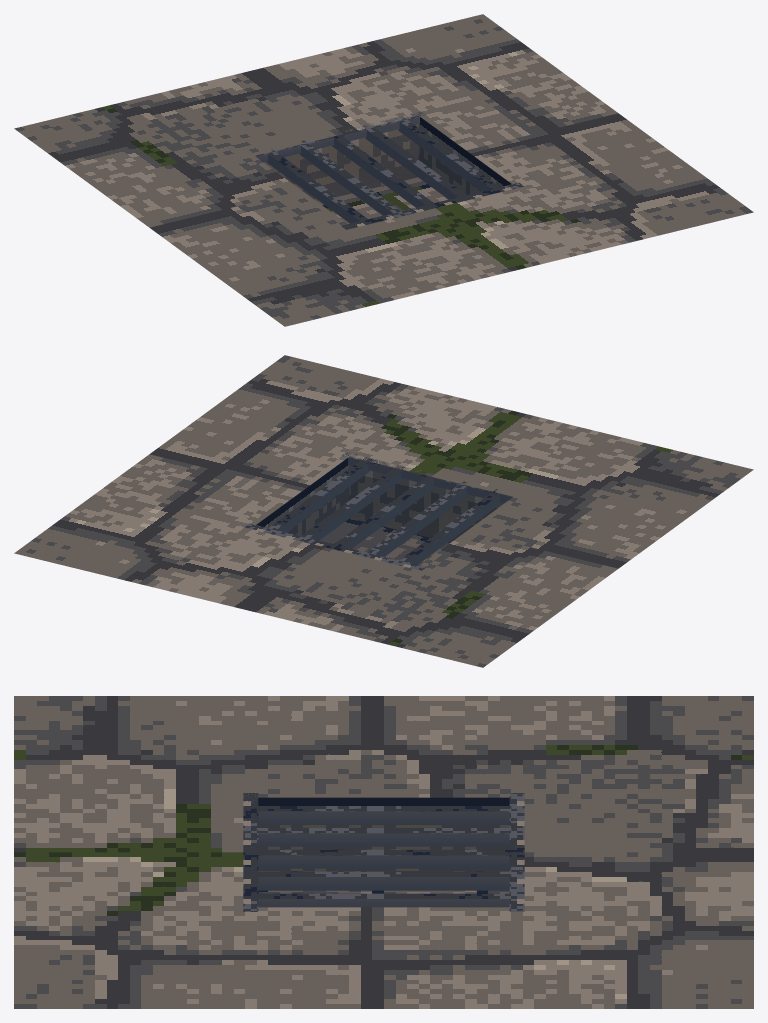
Rendered from dgn.floor__grate.glb.
3 renders of one model, top to bottom at view 1: azimuth 30°, elevation 25°; view 2: azimuth 150°, elevation 25°; view 3: azimuth 270°, elevation 25°, orthographic. The views are drawn at different scales.
Visible parts, largest first — view 1: kit_shell_floor, kit_grate, kit_shell_sump; view 2: kit_shell_floor, kit_grate, kit_shell_sump; view 3: kit_shell_floor, kit_grate, kit_shell_sump.
Part boxes in pixels (x1,y1,x2,y2): kit_shell_floor: (14, 14, 753, 326); kit_grate: (255, 111, 524, 229); kit_shell_sump: (264, 117, 511, 223); kit_shell_floor: (14, 355, 753, 667); kit_grate: (243, 452, 512, 570); kit_shell_sump: (256, 458, 503, 564); kit_shell_floor: (14, 696, 753, 1008); kit_grate: (243, 793, 524, 911); kit_shell_sump: (258, 797, 509, 893).
Bounding box in the file's own units: 4 × 0.5 × 4.
3 materials, 3 textured.
